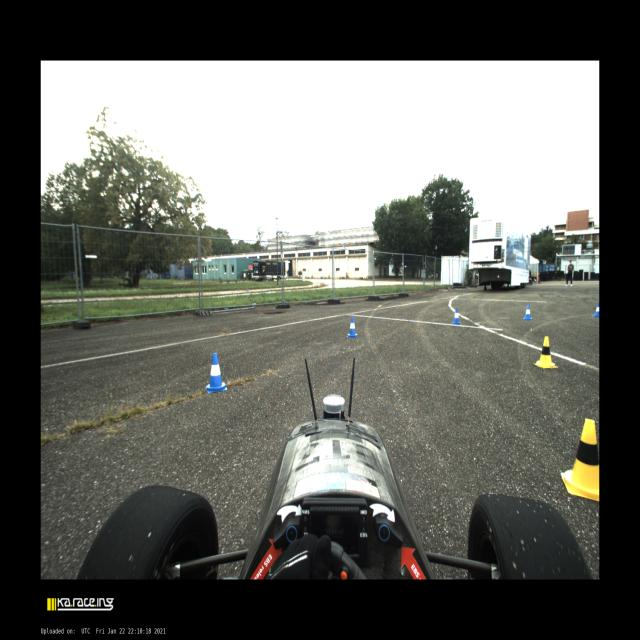blue_cone: (206, 354, 227, 394), (347, 316, 358, 338), (451, 308, 462, 325), (524, 305, 532, 320), (592, 303, 599, 317)
yellow_cone: (561, 418, 599, 503), (533, 336, 558, 368)
